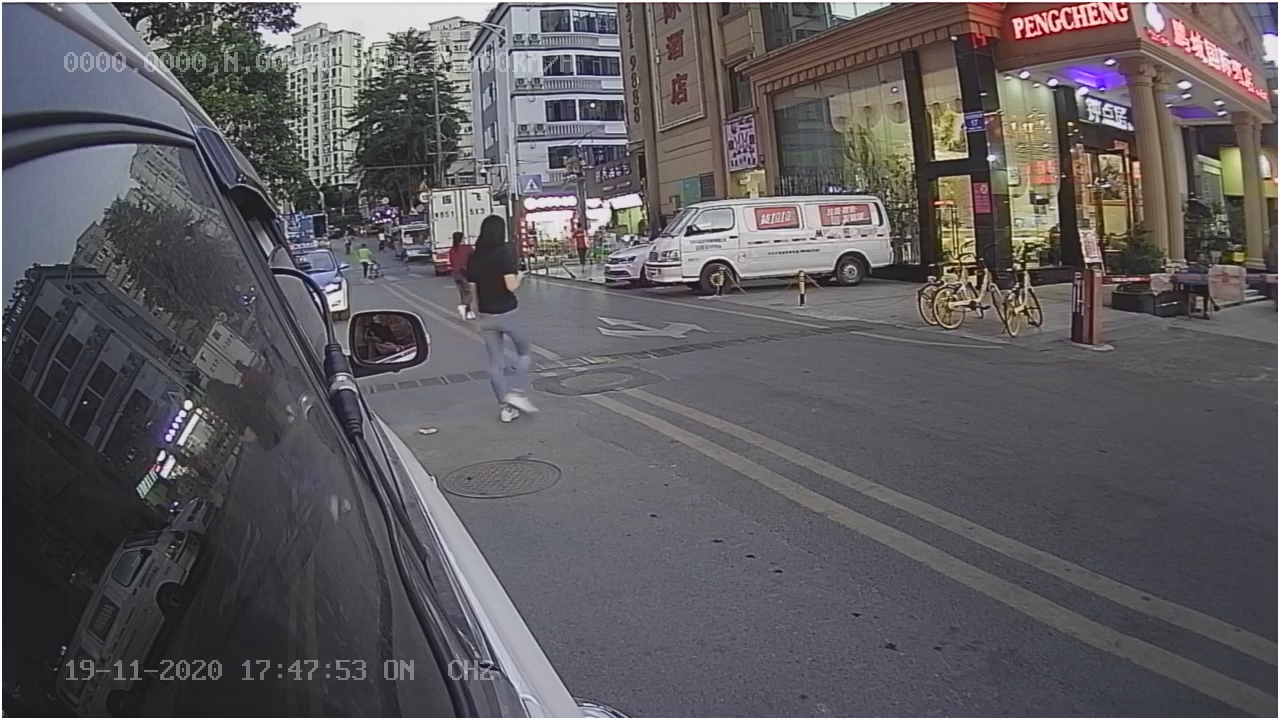person: (463, 220, 546, 433)
